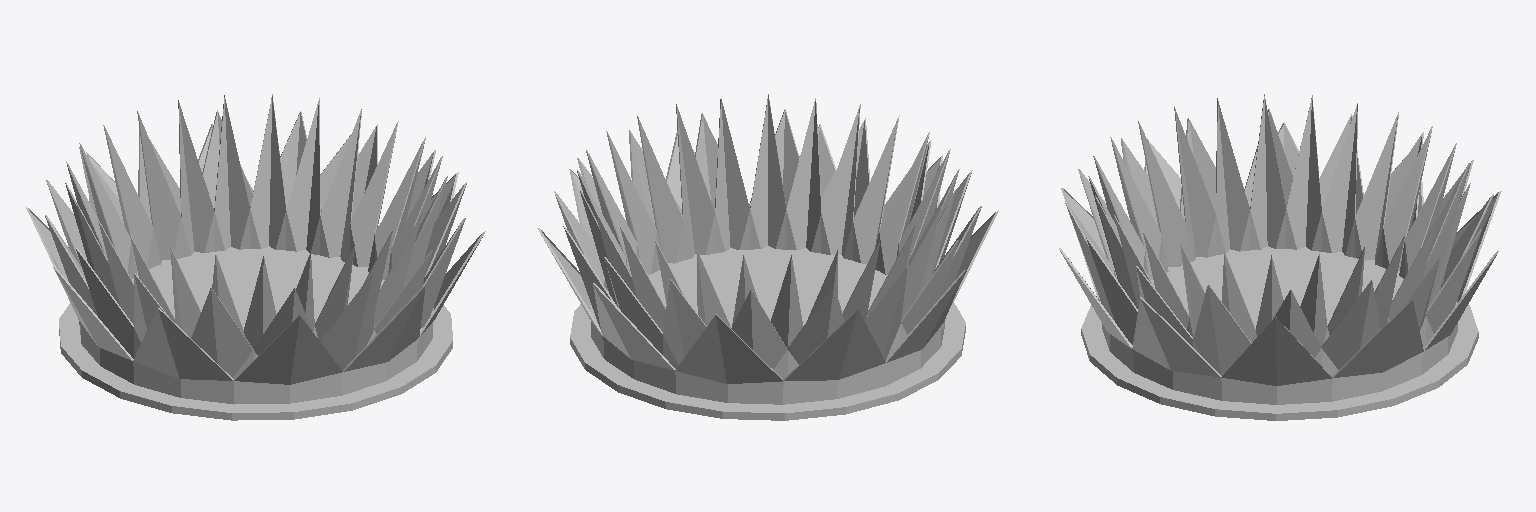
File: portal_000048.obj
3 renders of one model, left to right at view 1: azimuth 30°, elevation 25°; view 2: azimuth 150°, elevation 25°; view 3: azimuth 270°, elevation 25°, orthographic.
Visible parts, largest first — view 1: Cylinder.001, pCylinder1, Cylinder; view 2: Cylinder.001, pCylinder1, Cylinder; view 3: Cylinder.001, pCylinder1, Cylinder.
Boxes of the visible parts, x1,y1,x2,y2 form: Cylinder.001: [65, 94, 447, 348]; pCylinder1: [26, 124, 485, 420]; Cylinder: [45, 110, 466, 379]; Cylinder.001: [577, 94, 959, 348]; pCylinder1: [537, 124, 998, 420]; Cylinder: [554, 109, 981, 379]; Cylinder.001: [1088, 94, 1470, 346]; pCylinder1: [1059, 122, 1501, 420]; Cylinder: [1065, 109, 1493, 376].
Size of the model in its own units: 7.45 by 2.9 by 7.12.